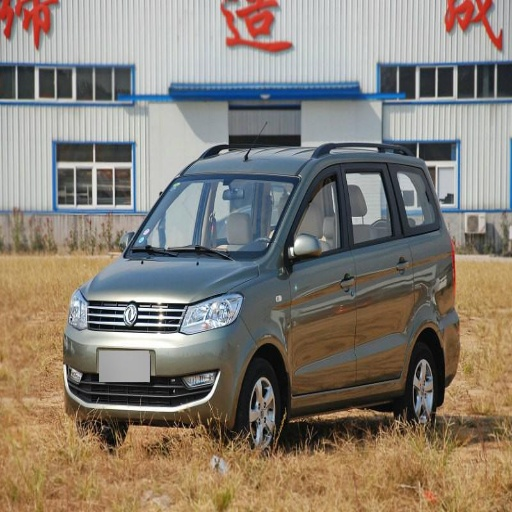front_bumper: (65, 298, 255, 421)
front_glass: (125, 174, 299, 258)
front_left_door: (285, 164, 358, 393)
